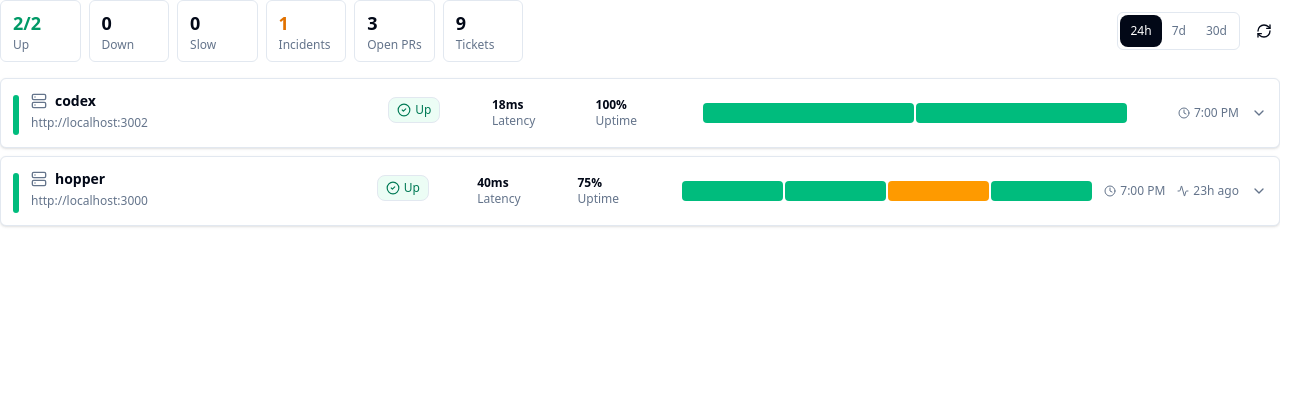
Services › renders history included in the services response
Check: the text "2/2" is shown, box [13,11,41,35]
Check: the text "75%" is shown, box [578,174,602,191]
Click the text "hopper" at x=80, y=179, box [55,169,105,189]
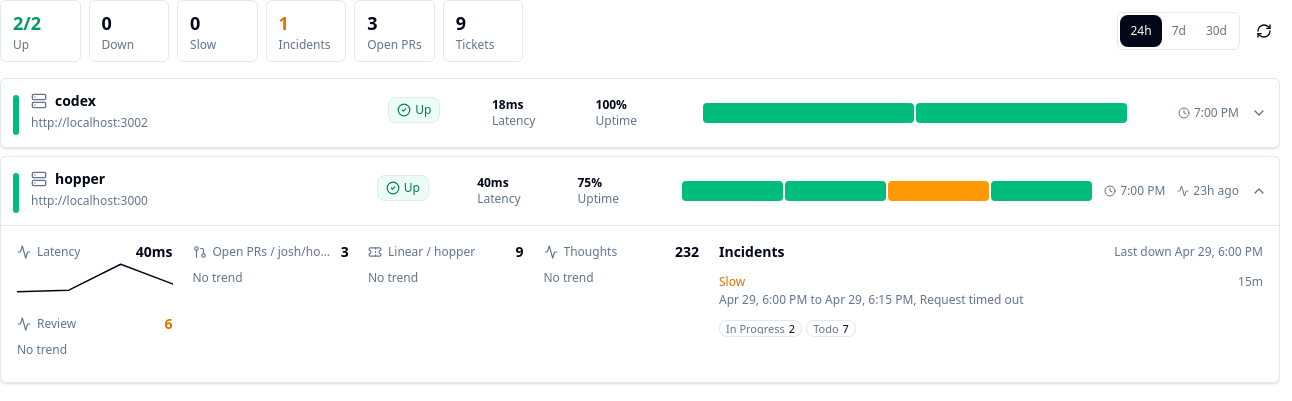
Check: the picture named "Latency trend from 20 to 90" is shown, box [17,262,172,294]
Check: the text "15m" is shown, box [1238,274,1263,290]
Check: the text "Apr 29, 6:00 PM to Apr 29, 6:15 PM, Request timed out" is shown, box [719,291,1024,308]
